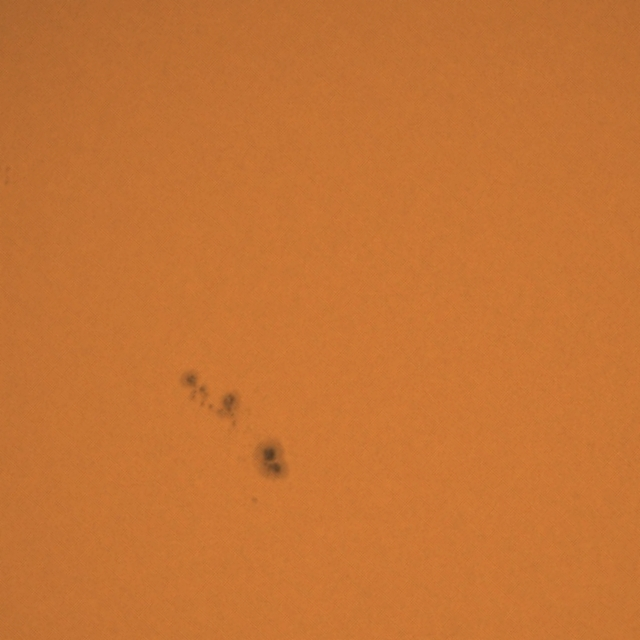sunspot: (184, 378, 240, 418), (183, 372, 214, 411), (256, 444, 283, 479), (0, 164, 13, 189)
